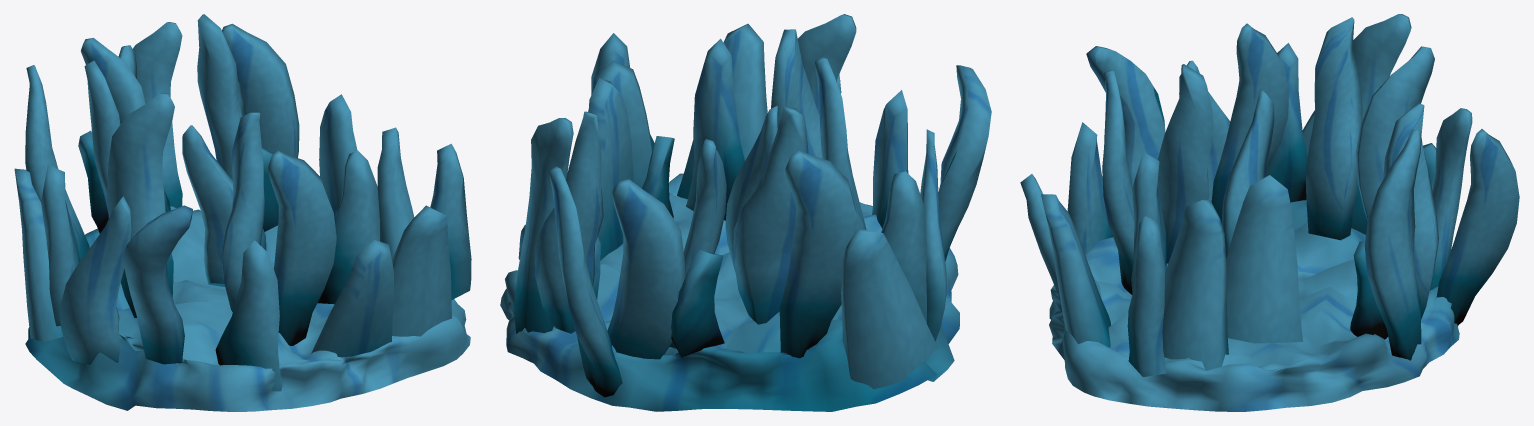
Rendered from Algae_patch2.fbx.
3 renders of one model, left to right at view 1: azimuth 30°, elevation 25°; view 2: azimuth 150°, elevation 25°; view 3: azimuth 270°, elevation 25°, orthographic. The views are drawn at different scales.
Parts seen in each view (by area): view 1: Plane.005; view 2: Plane.005; view 3: Plane.005.
Part boxes in pixels (left/top/right/bottom): Plane.005: left=14, top=14, right=471, bottom=411; Plane.005: left=500, top=14, right=991, bottom=411; Plane.005: left=1020, top=14, right=1519, bottom=411.
Bounding box in the file's own units: 5.63 × 3.8 × 6.18.
1 material, 1 textured.
